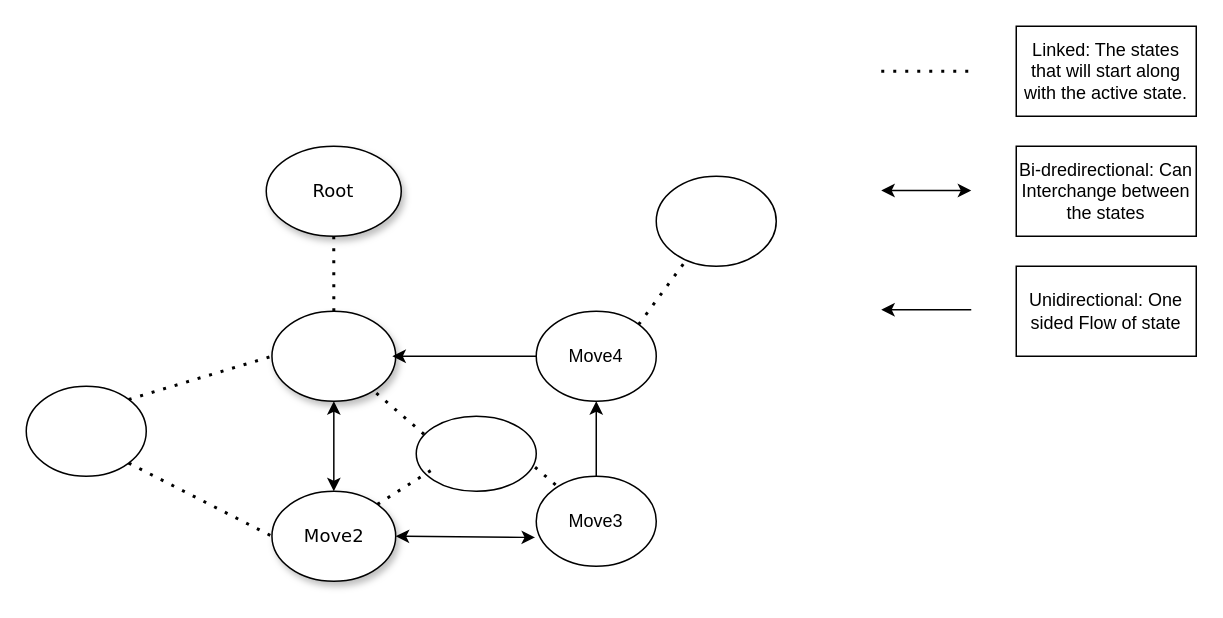
This 1223x618 diagram has some shape labels left out. Here are the shapes that lost their labels. From the top down, the centre of each, then its label:
(715,220): Extra3
(334,358): Move1
(85,430): Extra2
(475,453): Extras1
